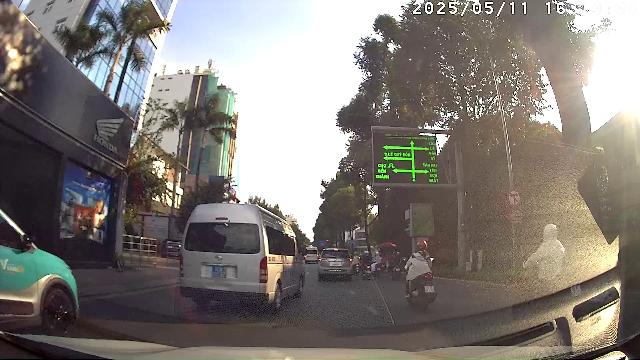137-cam-re-trai-va-re-phai: (507, 189, 522, 207)
